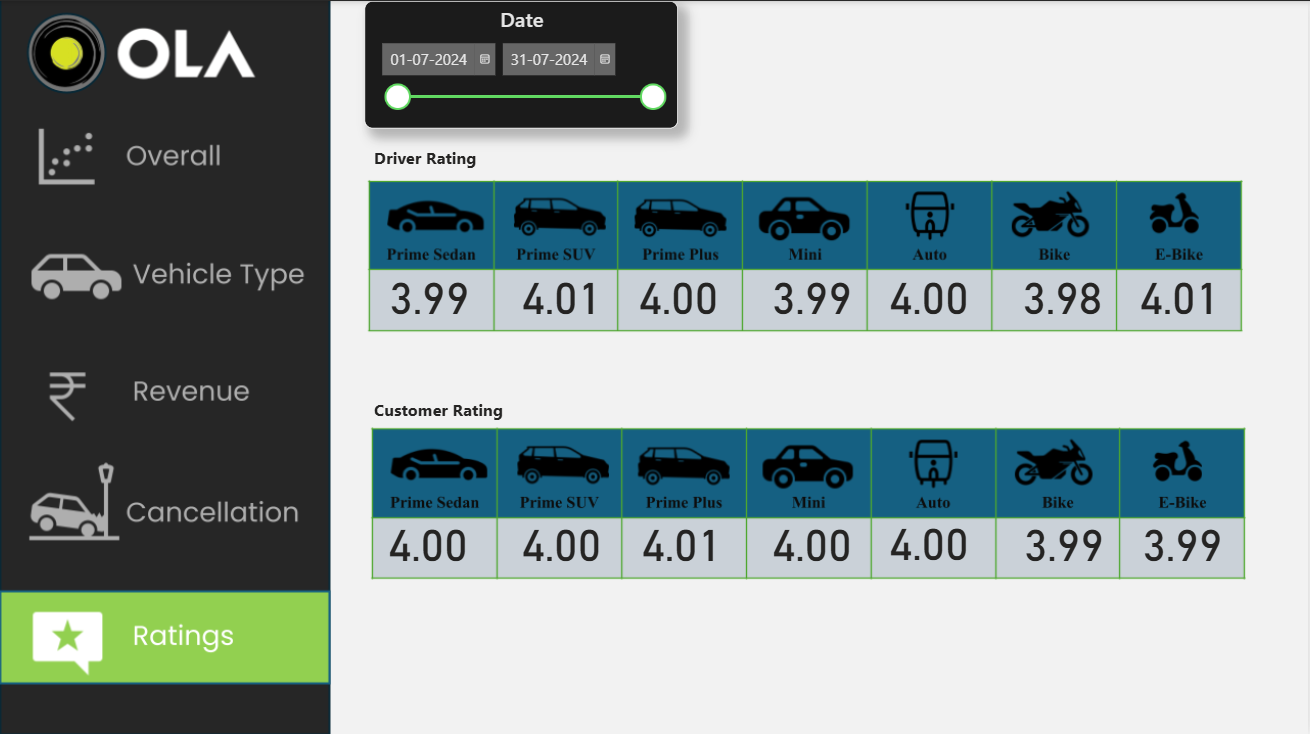

The dashboard page shown, as its layout file describes it:
{"tool":"powerbi","page":{"name":"Ratings","canvas":[1280,720],"ordinal":4},"visuals":[{"type":"actionButton","box":[0,218.6,322.8,98.3],"z":0},{"type":"actionButton","box":[0,333.1,322.8,98.3],"z":1000},{"type":"actionButton","box":[0,446.1,322.8,98.3],"z":2000},{"type":"actionButton","box":[0,104.2,322.8,98.3],"z":3000},{"type":"card","fields":{"Values":["Avg(Bookings-100000-Rows xlsx - July.Driver_Ratings)"]},"box":[362.5,255.6,114.6,60.4],"z":4000},{"type":"card","fields":{"Values":["Avg(Bookings-100000-Rows xlsx - July.Driver_Ratings)"]},"box":[491.9,254.7,114.7,60.3],"z":5000},{"type":"card","fields":{"Values":["Avg(Bookings-100000-Rows xlsx - July.Driver_Ratings)"]},"box":[606.6,254.7,114.7,60.3],"z":6000},{"type":"card","fields":{"Values":["Avg(Bookings-100000-Rows xlsx - July.Driver_Ratings)"]},"box":[736.9,254.7,114.7,60.3],"z":7000},{"type":"card","fields":{"Values":["Avg(Bookings-100000-Rows xlsx - July.Driver_Ratings)"]},"box":[851.6,254.7,114.7,60.3],"z":8000},{"type":"card","fields":{"Values":["Avg(Bookings-100000-Rows xlsx - July.Driver_Ratings)"]},"box":[981.9,254.7,114.7,60.3],"z":9000},{"type":"card","fields":{"Values":["Avg(Bookings-100000-Rows xlsx - July.Driver_Ratings)"]},"box":[1096.6,254.7,114.7,60.3],"z":10000},{"type":"card","fields":{"Values":["Avg(Bookings-100000-Rows xlsx - July.Customer_Rating)"]},"box":[361.6,497.7,114.7,60.3],"z":11000},{"type":"card","fields":{"Values":["Avg(Bookings-100000-Rows xlsx - July.Customer_Rating)"]},"box":[491.9,497.7,114.7,60.3],"z":12000},{"type":"card","fields":{"Values":["Avg(Bookings-100000-Rows xlsx - July.Customer_Rating)"]},"box":[608.6,497.7,114.7,60.3],"z":13000},{"type":"card","fields":{"Values":["Avg(Bookings-100000-Rows xlsx - July.Customer_Rating)"]},"box":[736.9,497.7,114.7,60.3],"z":14000},{"type":"card","fields":{"Values":["Avg(Bookings-100000-Rows xlsx - July.Customer_Rating)"]},"box":[851.6,495.8,114.7,60.3],"z":15000},{"type":"card","fields":{"Values":["Avg(Bookings-100000-Rows xlsx - July.Customer_Rating)"]},"box":[983.8,497.7,114.7,60.3],"z":16000},{"type":"card","fields":{"Values":["Avg(Bookings-100000-Rows xlsx - July.Customer_Rating)"]},"box":[1098.5,495.8,114.7,62.2],"z":17000},{"type":"textbox","box":[360.9,136.3,150.3,32.5],"z":18000},{"type":"textbox","box":[360.9,382.6,150.3,32.5],"z":19000},{"type":"slicer","title":"Date","fields":{"Values":["Bookings-100000-Rows xlsx - July.Date"]},"box":[356.6,0,306.7,124.7],"z":20000}]}

Visuals, with their boxes on the page's 1280x720 design canvas (x1, y1, x2, y2). These are canvas units, not pixel positions in the 1310x734 screenshot, which may show the page scaled, cropped or inside an application window:
actionButton: 0,219,323,317
actionButton: 0,333,323,431
actionButton: 0,446,323,544
actionButton: 0,104,323,202
card - Avg(Bookings-100000-Rows xlsx - July.Driver_Ratings): 362,256,477,316
card - Avg(Bookings-100000-Rows xlsx - July.Driver_Ratings): 492,255,607,315
card - Avg(Bookings-100000-Rows xlsx - July.Driver_Ratings): 607,255,721,315
card - Avg(Bookings-100000-Rows xlsx - July.Driver_Ratings): 737,255,852,315
card - Avg(Bookings-100000-Rows xlsx - July.Driver_Ratings): 852,255,966,315
card - Avg(Bookings-100000-Rows xlsx - July.Driver_Ratings): 982,255,1097,315
card - Avg(Bookings-100000-Rows xlsx - July.Driver_Ratings): 1097,255,1211,315
card - Avg(Bookings-100000-Rows xlsx - July.Customer_Rating): 362,498,476,558
card - Avg(Bookings-100000-Rows xlsx - July.Customer_Rating): 492,498,607,558
card - Avg(Bookings-100000-Rows xlsx - July.Customer_Rating): 609,498,723,558
card - Avg(Bookings-100000-Rows xlsx - July.Customer_Rating): 737,498,852,558
card - Avg(Bookings-100000-Rows xlsx - July.Customer_Rating): 852,496,966,556
card - Avg(Bookings-100000-Rows xlsx - July.Customer_Rating): 984,498,1098,558
card - Avg(Bookings-100000-Rows xlsx - July.Customer_Rating): 1098,496,1213,558
textbox: 361,136,511,169
textbox: 361,383,511,415
"Date" slicer: 357,0,663,125
